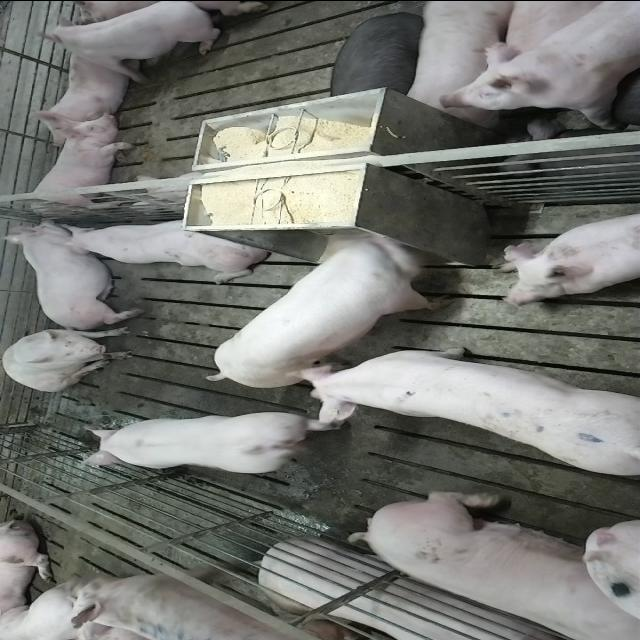Feeding: (202, 223, 450, 385)
Lateral_lying: (354, 482, 640, 636), (258, 538, 574, 640)
Sitting: (5, 325, 138, 390)
Standing: (291, 343, 635, 481), (446, 3, 640, 125), (130, 564, 378, 640), (84, 410, 340, 480), (398, 3, 534, 118), (322, 7, 428, 102)
Sternal_lying: (493, 207, 640, 307), (38, 2, 226, 78), (5, 218, 128, 324), (55, 215, 269, 275)
